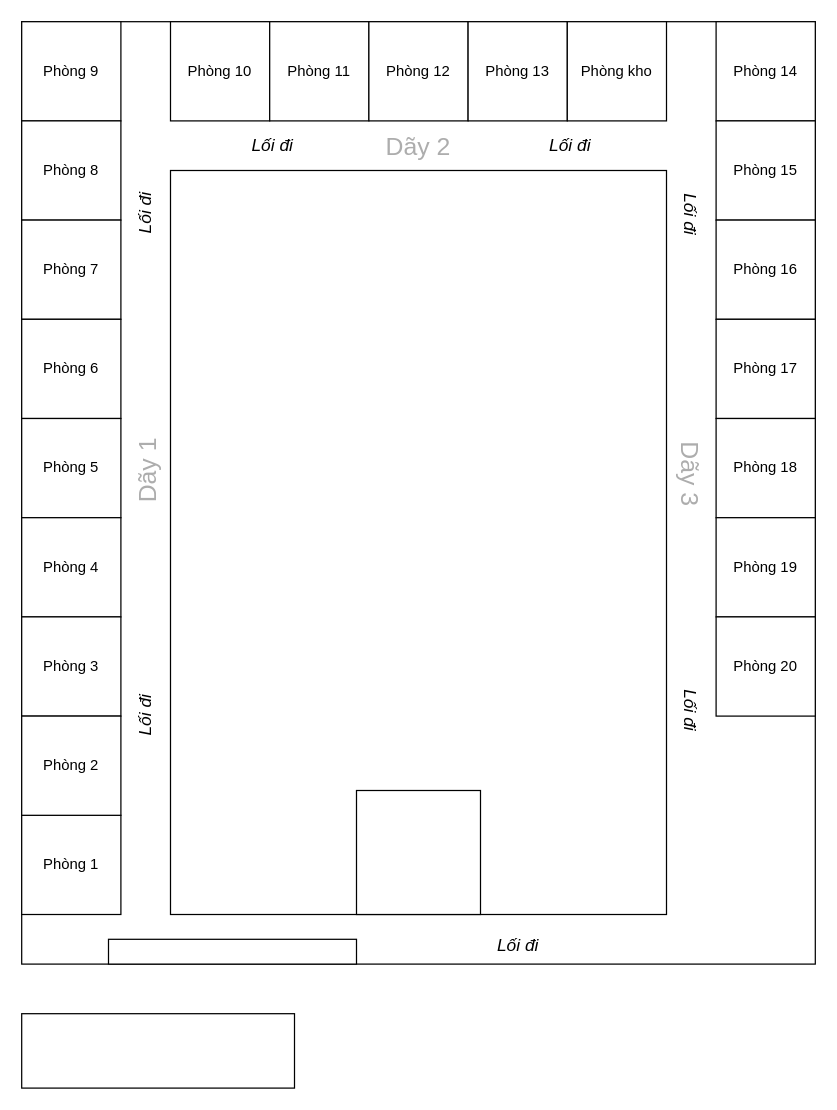
Some shapes in this 837 by 1110 pixel diagram are drawn without their labels. Each missing label, with the centre of its shape:
"Cổng" goes at (x=231, y=951).
"Dãy 1 và 2: loại phòng bình thường Dãy 3: loại phòng có gác" goes at (x=157, y=1050).
"Phòng lớn" goes at (x=417, y=851).
